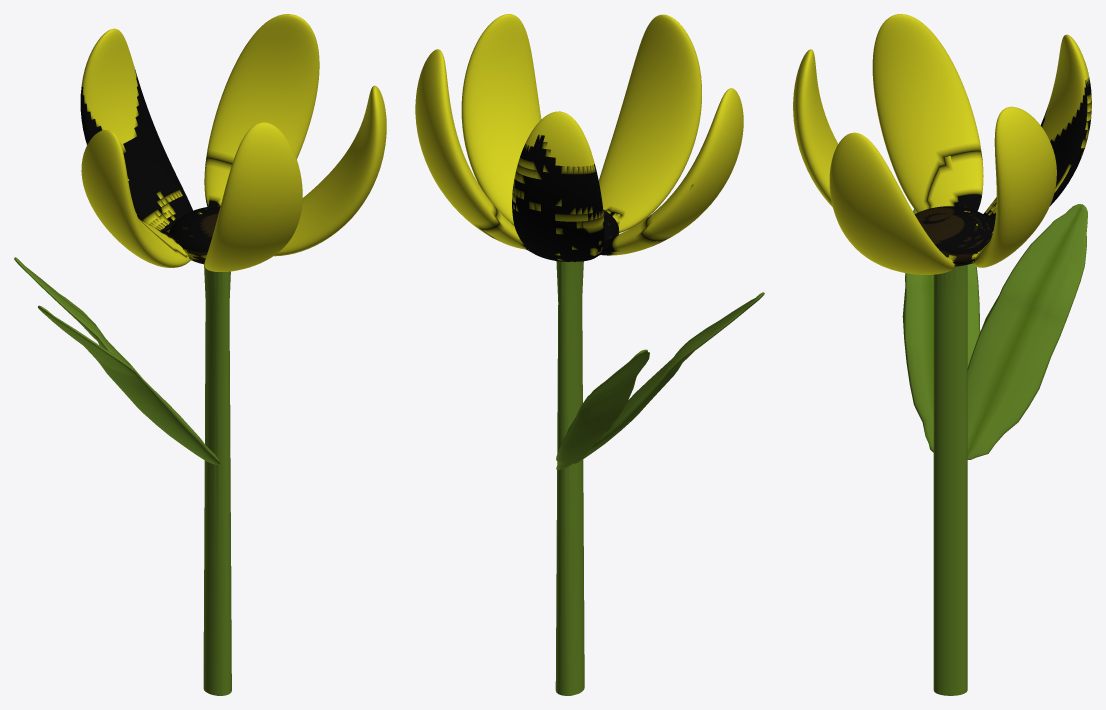
The model's file is flower1.fbx.
3 renders of one model, left to right at view 1: azimuth 30°, elevation 25°; view 2: azimuth 150°, elevation 25°; view 3: azimuth 270°, elevation 25°, orthographic.
Parts seen in each view (by area): view 1: bend3Handle4; view 2: bend3Handle4; view 3: bend3Handle4.
Part boxes in pixels (bbox=[...]): bend3Handle4: bbox=[14, 14, 386, 695]; bend3Handle4: bbox=[415, 14, 764, 695]; bend3Handle4: bbox=[793, 14, 1091, 695].
Size of the model in its own units: 12.18 by 23.16 by 9.92.
